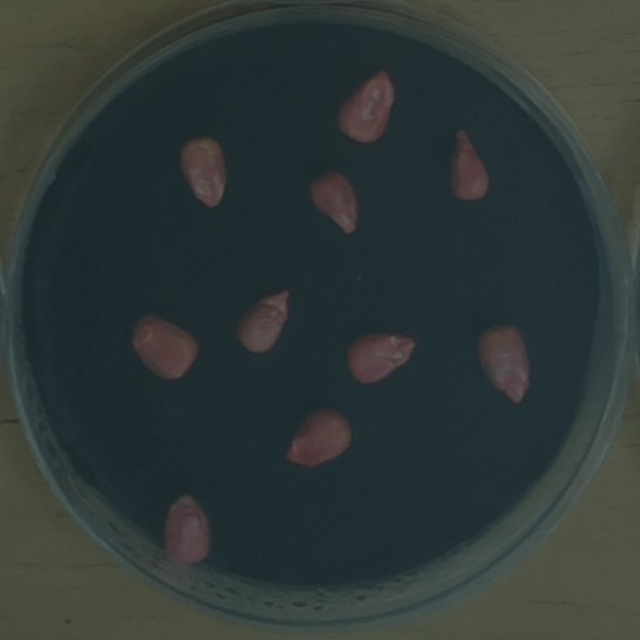Zea mays: (326, 60, 402, 150), (123, 304, 203, 386), (469, 313, 537, 408), (277, 399, 360, 474), (340, 324, 424, 392), (229, 279, 297, 360), (156, 485, 218, 571), (171, 127, 233, 213), (442, 116, 499, 208), (301, 163, 364, 240)
